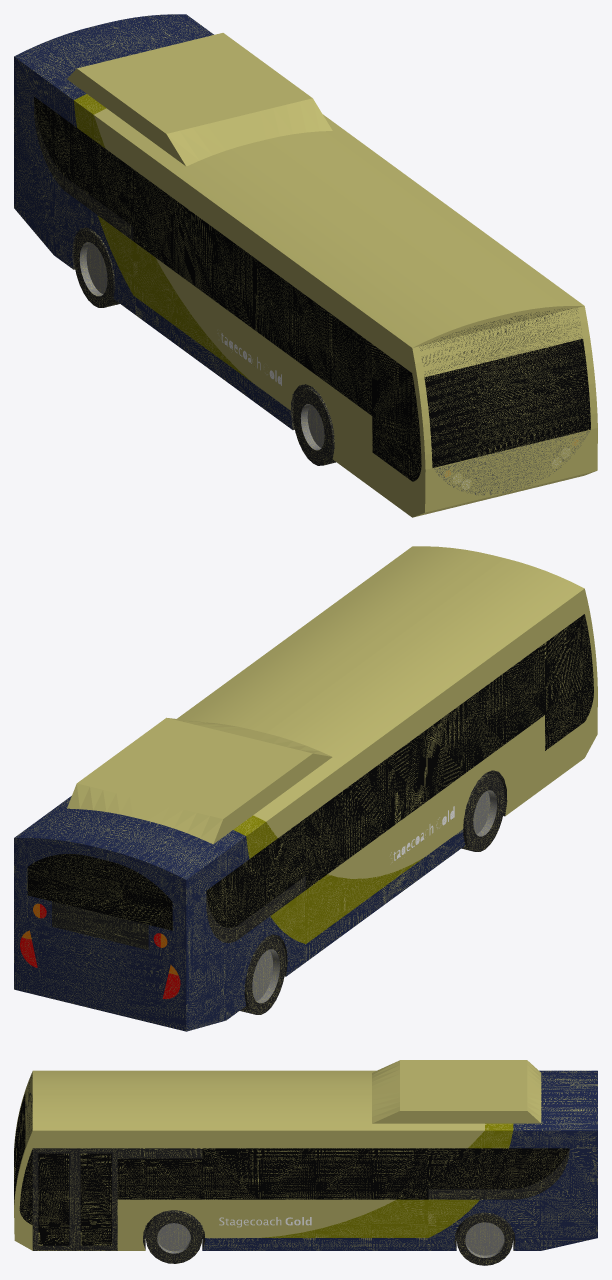
The model's file is enviro350h.dae.
3 views of the same model, one above another, from view 1: azimuth 30°, elevation 25°; view 2: azimuth 150°, elevation 25°; view 3: azimuth 270°, elevation 25° (orthographic). The views are drawn at different scales.
Parts seen in each view (by area): view 1: SketchUp (×13); view 2: SketchUp (×12); view 3: SketchUp (×14).
Part boxes in pixels (x1,y1,x2,y2): SketchUp (×13): (14,14,597,517); SketchUp (×12): (14,546,597,1031); SketchUp (×14): (14,1060,597,1265).
Bounding box in the file's own units: 9.85 × 40.68 × 11.56.
